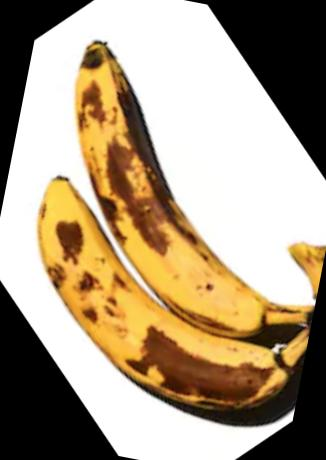Banana Overripe: (0, 9, 326, 425)
